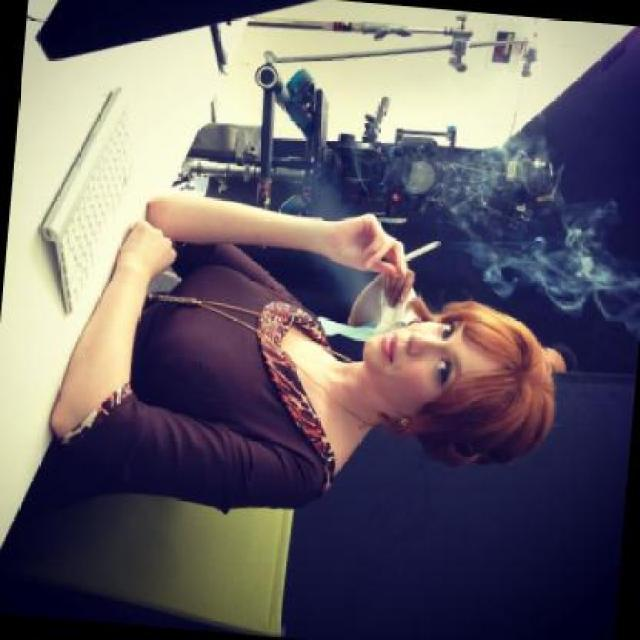cigarette: (398, 237, 444, 265)
